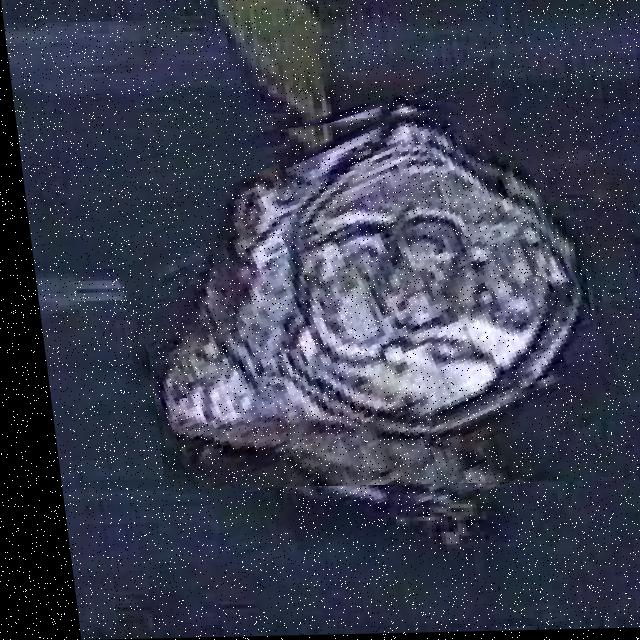can: (142, 112, 565, 489)
